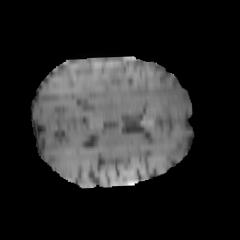glioma: (78, 57, 188, 110)
